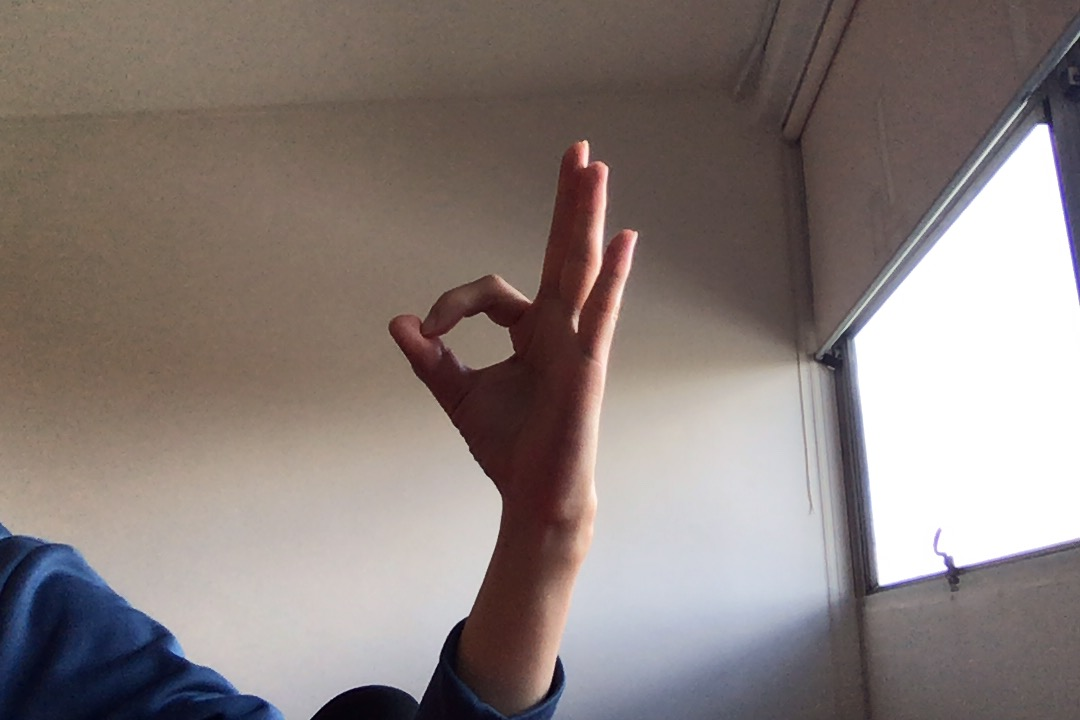oksign: (386, 133, 648, 524)
